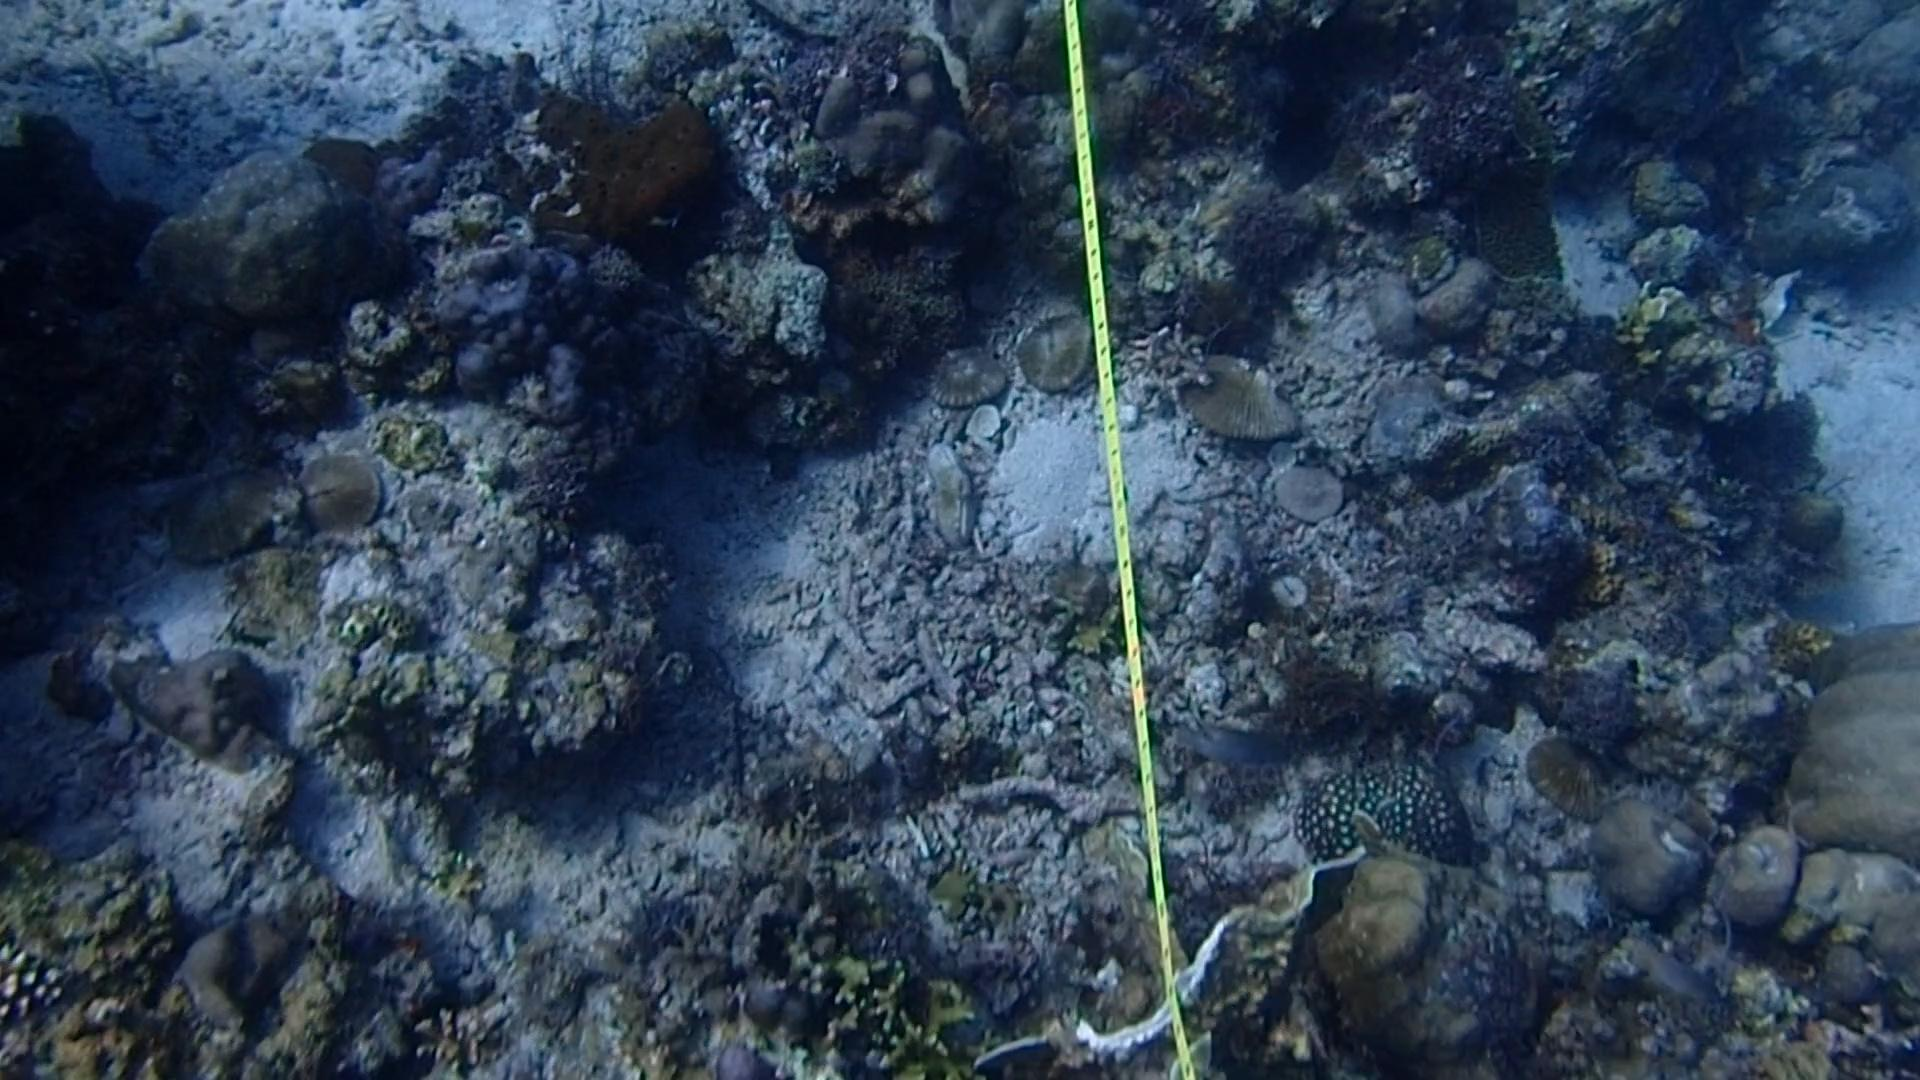Light Fish: (1185, 711, 1300, 793)
